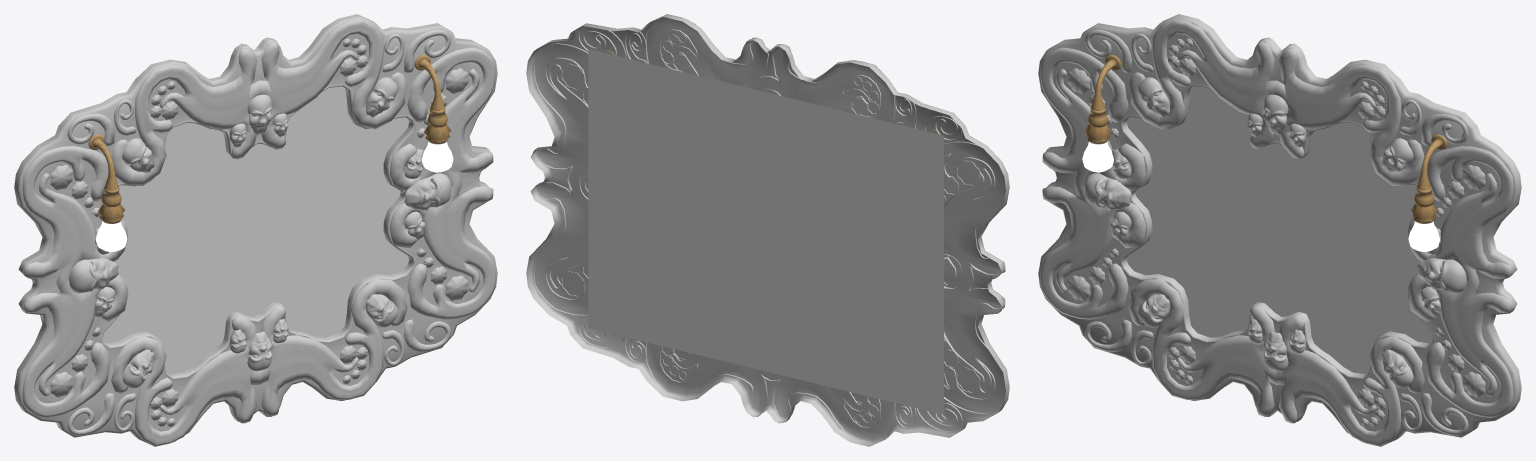
The picture shows the model from 3 angles, left to right: view 1: azimuth 30°, elevation 25°; view 2: azimuth 150°, elevation 25°; view 3: azimuth 330°, elevation 25°; orthographic projection.
Parts seen in each view (by area): view 1: 2ndFlr_FancyMirror_Core, 2ndFlr_FancyMirror_Glass, 2ndFlr_FancyMirror_Lamp; view 2: 2ndFlr_FancyMirror_Glass, 2ndFlr_FancyMirror_Core; view 3: 2ndFlr_FancyMirror_Core, 2ndFlr_FancyMirror_Glass, 2ndFlr_FancyMirror_Lamp.
Part boxes in pixels (<box>): 2ndFlr_FancyMirror_Core: <box>14,14,497,446</box>; 2ndFlr_FancyMirror_Glass: <box>102,86,409,374</box>; 2ndFlr_FancyMirror_Lamp: <box>88,55,453,252</box>; 2ndFlr_FancyMirror_Glass: <box>588,49,943,414</box>; 2ndFlr_FancyMirror_Core: <box>526,14,1009,446</box>; 2ndFlr_FancyMirror_Core: <box>1038,14,1521,446</box>; 2ndFlr_FancyMirror_Glass: <box>1126,86,1433,374</box>; 2ndFlr_FancyMirror_Lamp: <box>1082,55,1447,251</box>.
Size of the model in its own units: 108 by 81.62 by 11.12.
